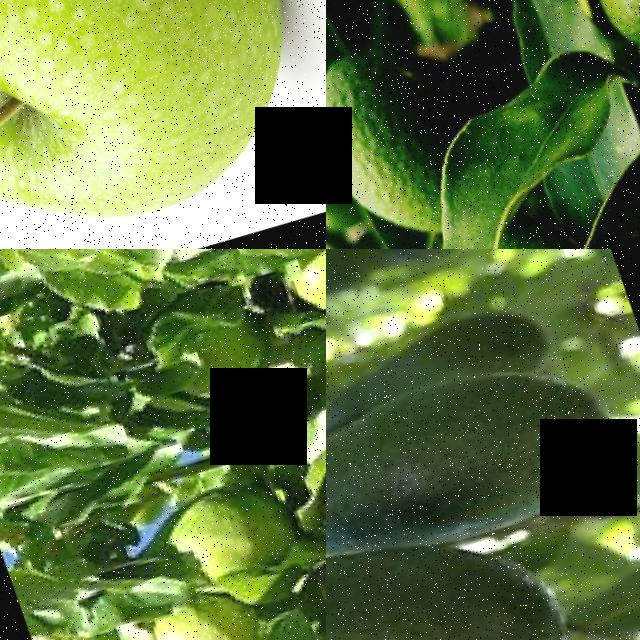apple: (0, 0, 119, 249)
avocado: (326, 326, 637, 600), (326, 483, 599, 640), (326, 14, 474, 249), (326, 290, 540, 428), (144, 463, 300, 600), (76, 571, 272, 640), (438, 183, 618, 249), (244, 249, 326, 349), (565, 0, 640, 101), (326, 249, 414, 328), (369, 249, 501, 285)
